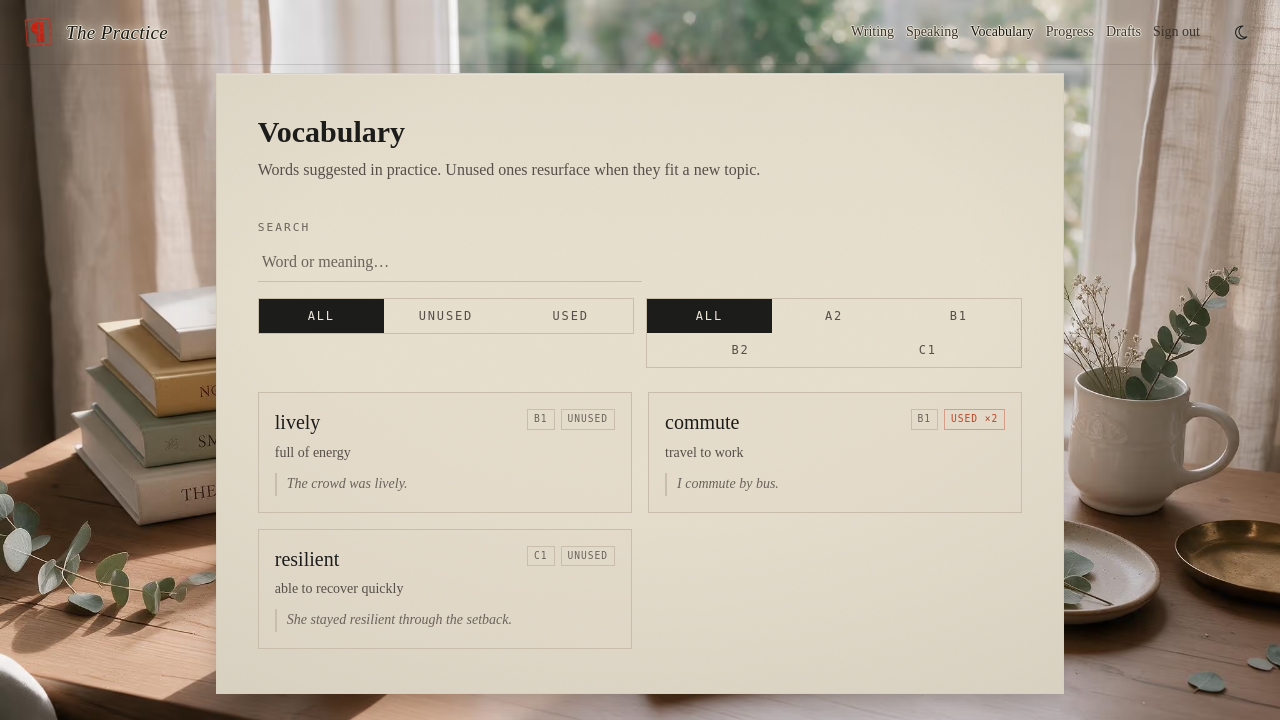
Test: VocabPage › filters by word or meaning as the learner types
Expected: the heading "lively" is shown, left=275, top=409, right=320, bottom=437
Type "commute" into the search field labelled "Search" at (450, 262), box left=258, top=242, right=642, bottom=282
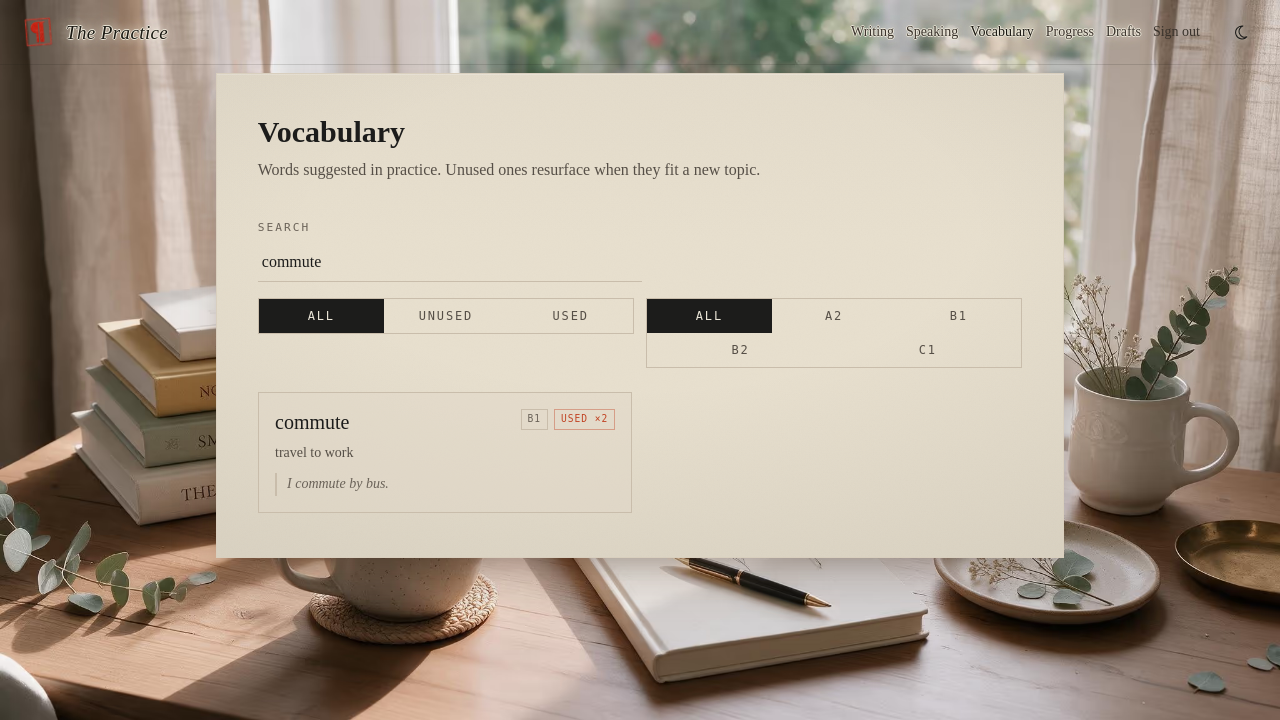
Expected: the heading "commute" is shown, left=275, top=409, right=349, bottom=437
Result: the heading "lively" is gone
Result: the heading "resilient" is gone
Note: Matches the meaning too, not just the word itself.
Replace the text in the search field labelled "Search" with "recover" at (450, 262), box left=258, top=242, right=642, bottom=282
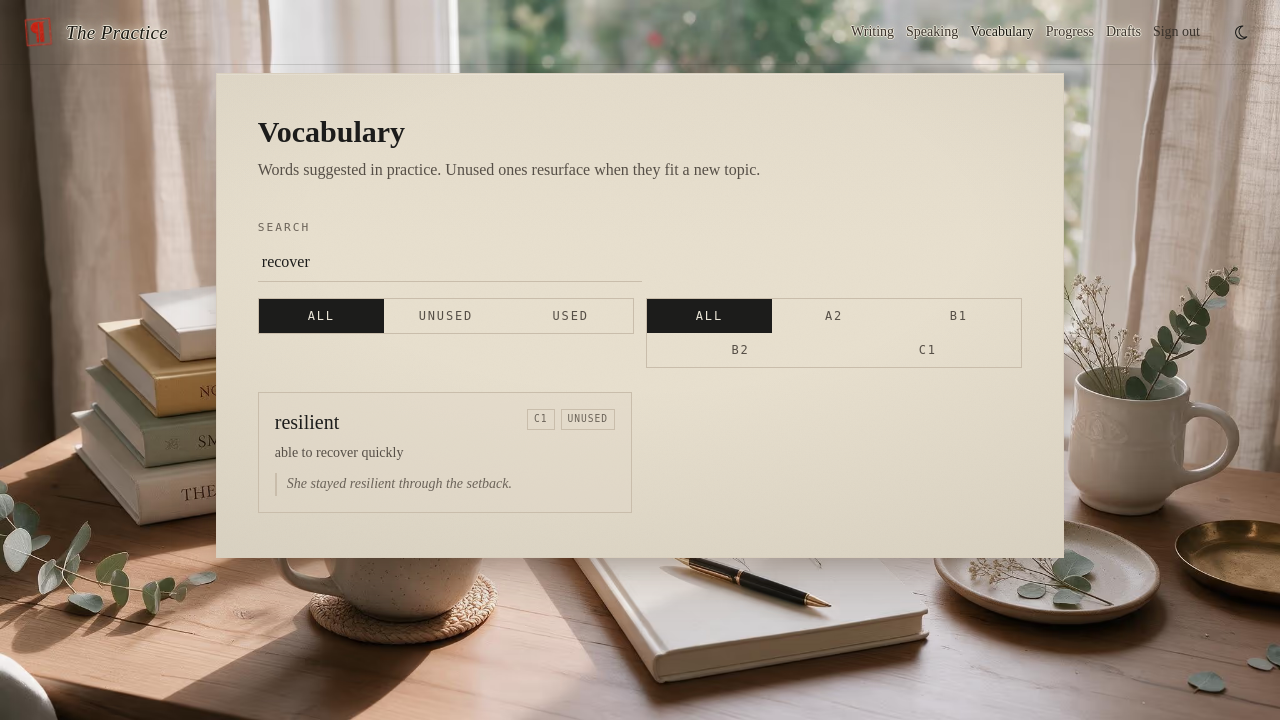
Result: the heading "resilient" is shown at left=275, top=409, right=339, bottom=437
Result: the heading "commute" is gone
